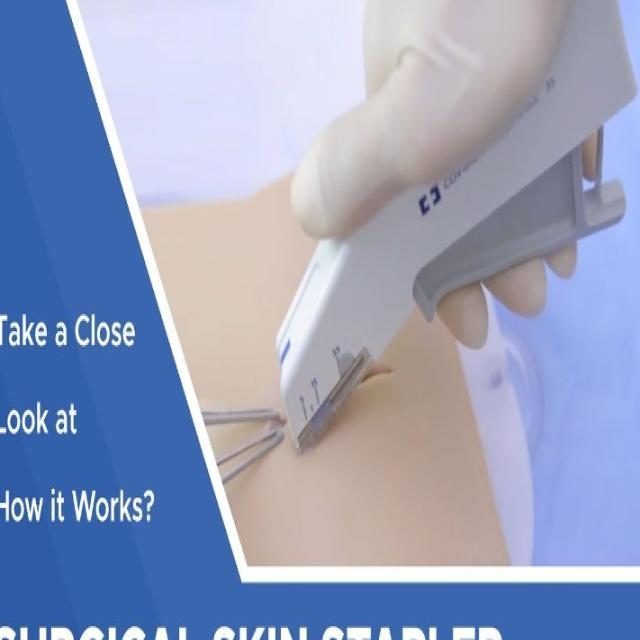Skin Stapler: (271, 33, 639, 452)
